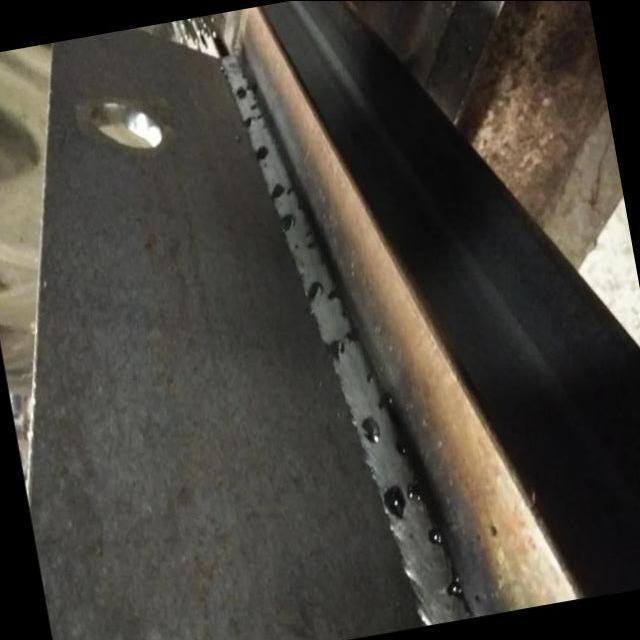defect: (381, 477, 427, 524), (322, 335, 349, 369), (360, 410, 383, 446), (241, 101, 267, 130), (424, 524, 445, 552), (252, 141, 270, 171), (269, 181, 294, 202), (304, 277, 324, 302), (280, 209, 295, 234), (377, 389, 395, 409), (326, 287, 343, 304), (234, 84, 251, 101), (395, 439, 411, 456), (304, 227, 315, 250), (343, 328, 358, 344), (364, 369, 374, 384), (338, 308, 348, 317), (292, 242, 301, 252)
